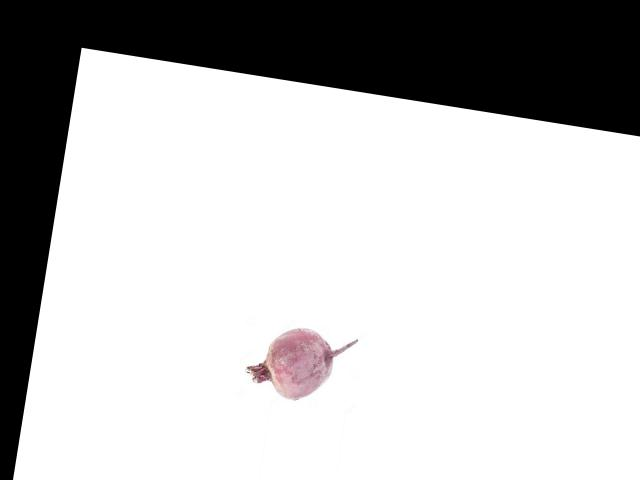beet: (242, 320, 357, 407)
